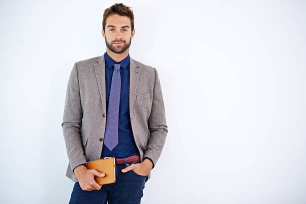male: (102, 4, 139, 58)
